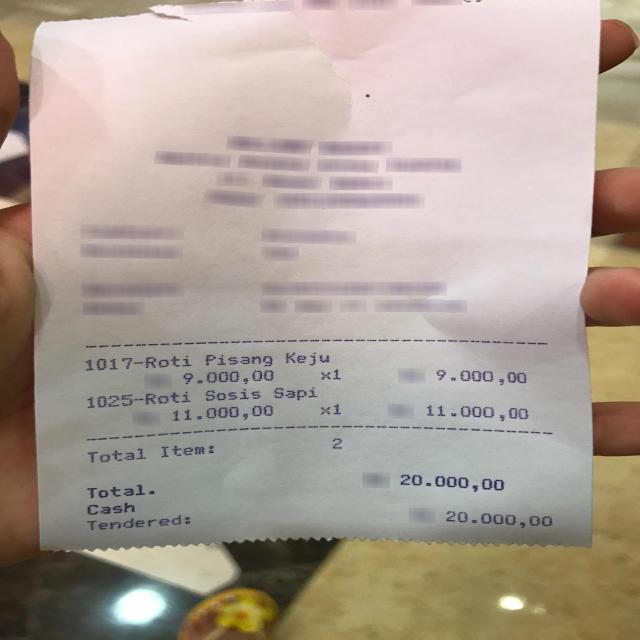kertas: (30, 0, 602, 550)
